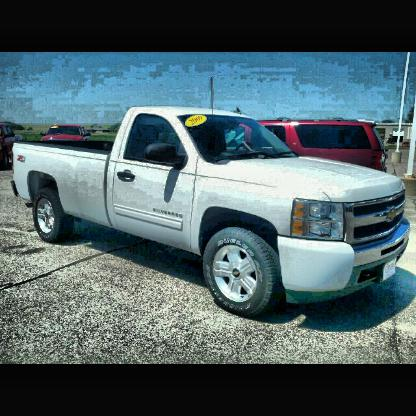Chevrolet Silverado 1500 Regular Cab 2012: (5, 94, 415, 331)
